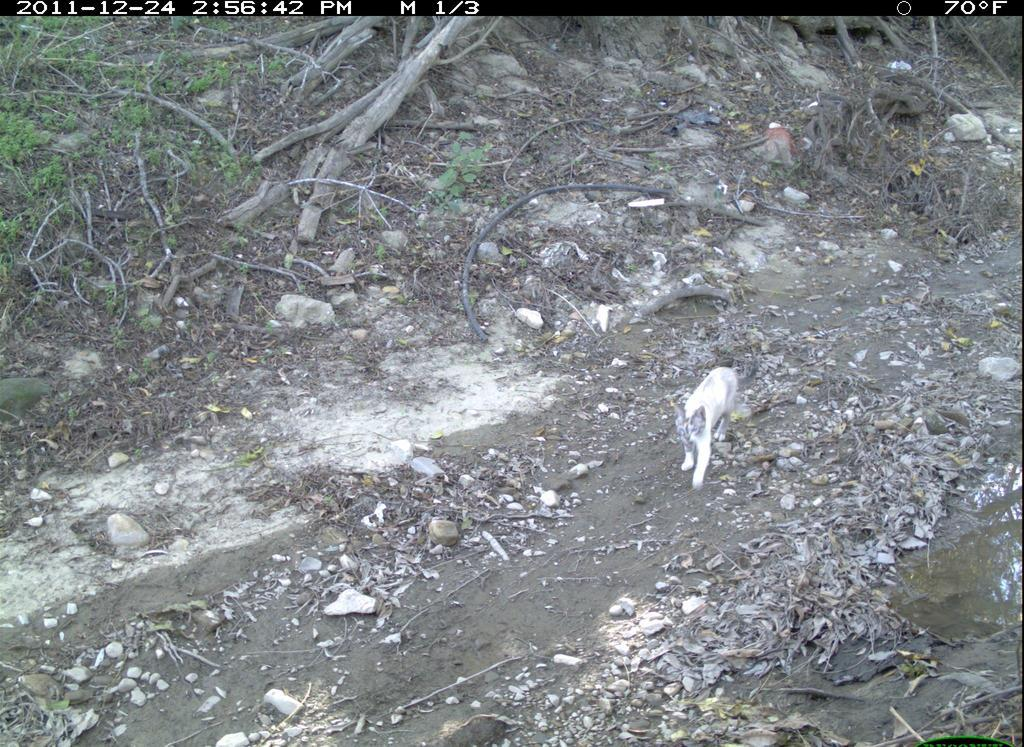cat: (674, 354, 756, 504)
